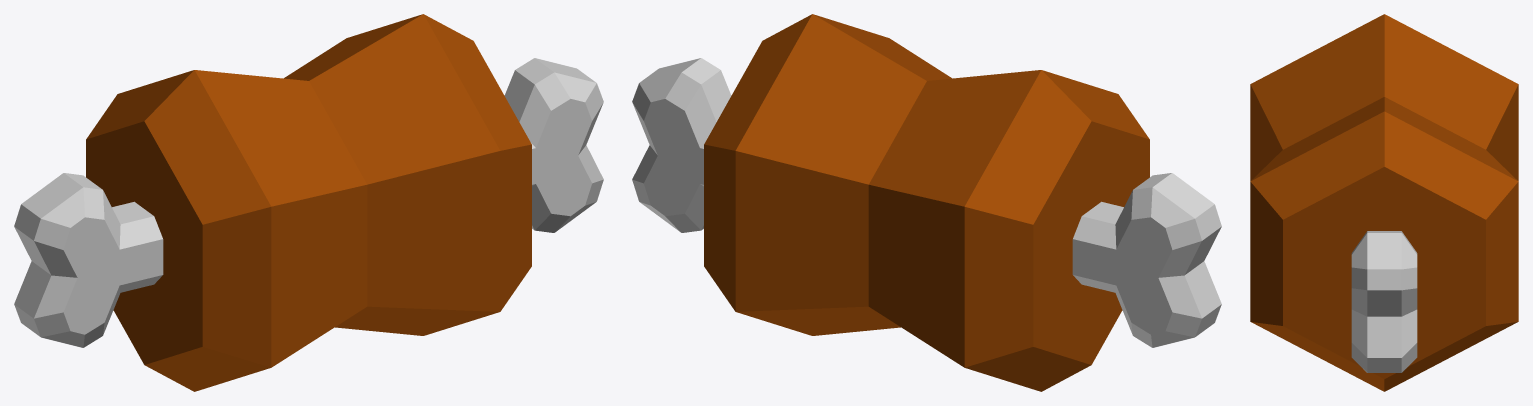
The model's file is Meat.fbx.
3 renders of one model, left to right at view 1: azimuth 30°, elevation 25°; view 2: azimuth 150°, elevation 25°; view 3: azimuth 270°, elevation 25°, orthographic. The views are drawn at different scales.
Parts seen in each view (by area): view 1: Cube; view 2: Cube; view 3: Cube.
Part boxes in pixels (x1,y1,x2,y2): Cube: (14, 14, 603, 391); Cube: (632, 14, 1221, 391); Cube: (1250, 14, 1518, 391).
Bounding box in the file's own units: 286 × 154 × 134.
